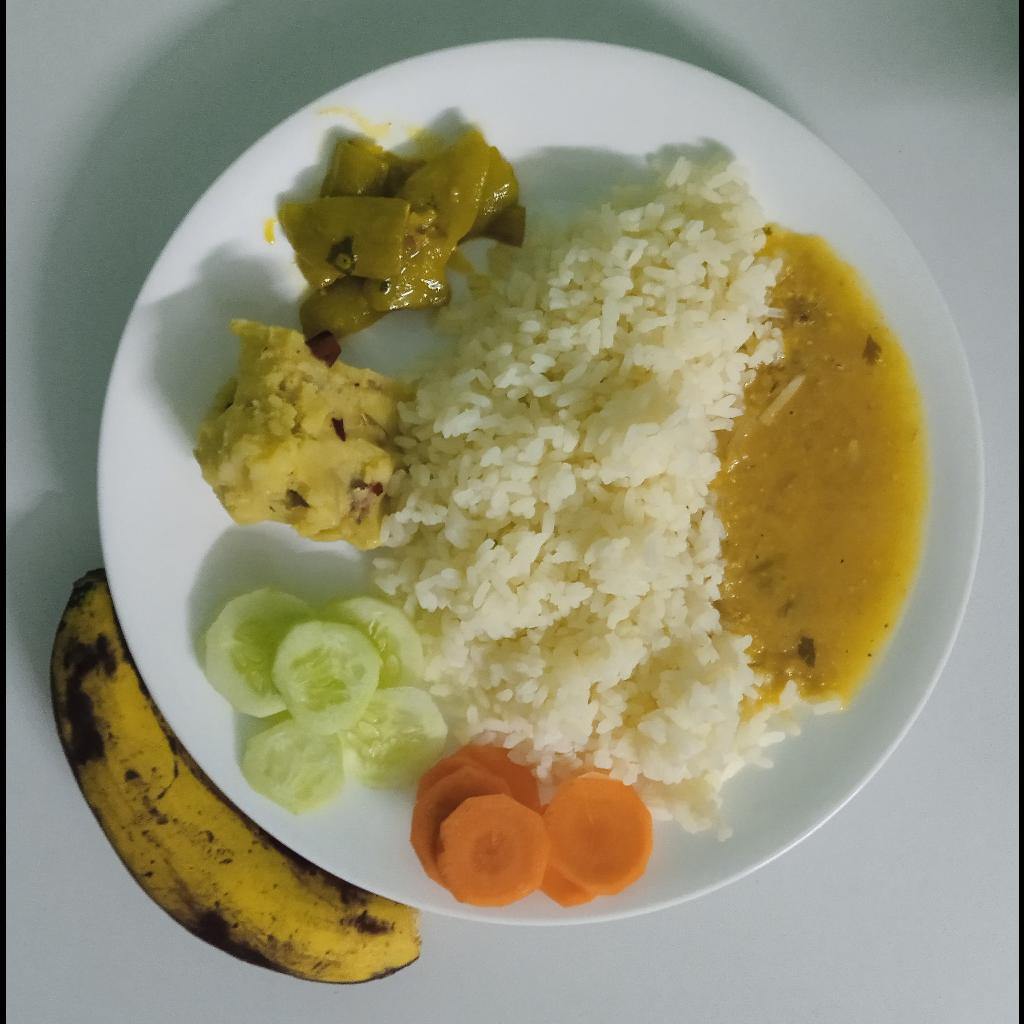banana: (49, 566, 420, 985)
carrot: (407, 744, 654, 911)
cucumber: (205, 587, 446, 816)
daal: (710, 228, 926, 717)
dundol: (281, 123, 529, 357)
potato-mashed: (190, 318, 415, 549)
rice: (380, 145, 784, 833)
